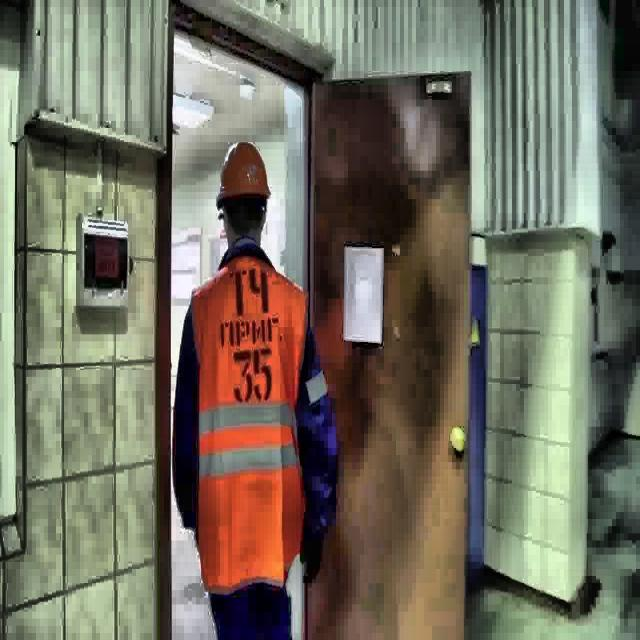safety_helmet: (218, 140, 270, 204)
safety_jacket: (192, 255, 310, 592)
